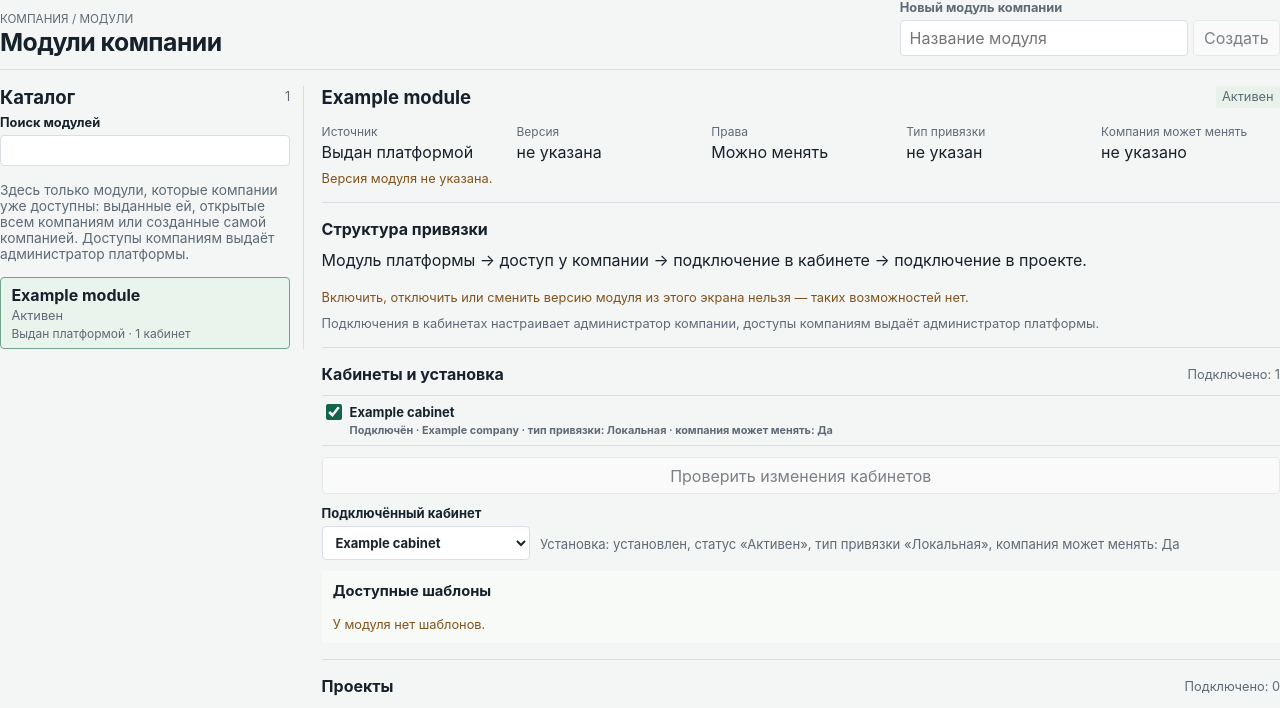
Test: module binding owner workflow › confirms a company cabinet removal and checks the unbound API readback
Click the checkbox: (334, 412) x1=326 y1=404 x2=342 y2=420
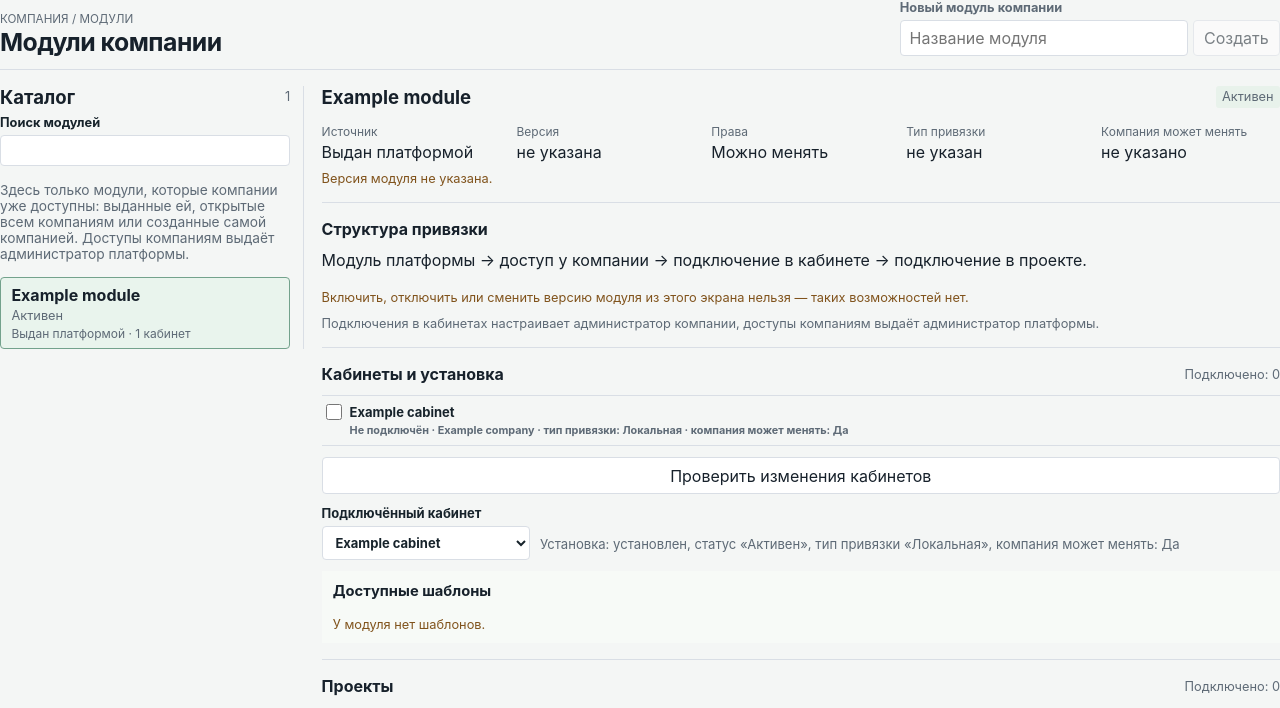
Click the button "Проверить изменения кабинетов": (801, 476) x1=322 y1=457 x2=1279 y2=494
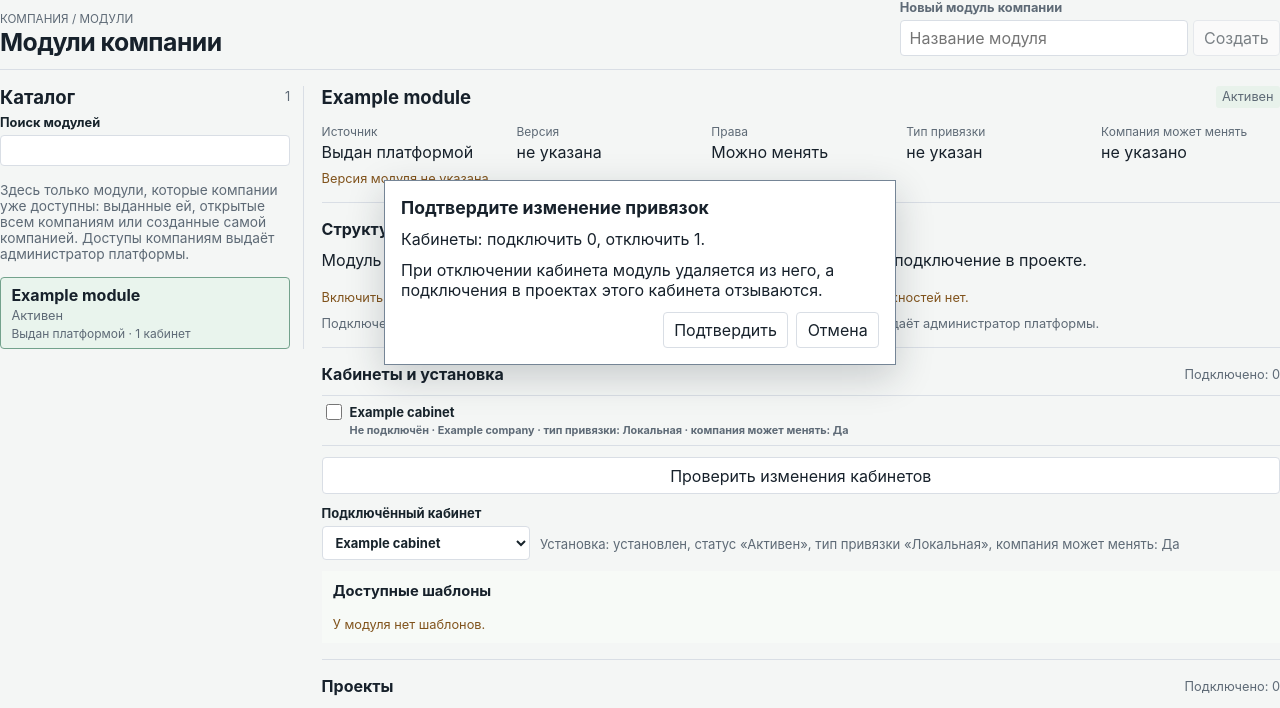
Now the dialog shows "отключить 1", box x1=401 y1=229 x2=705 y2=249
Now the dialog shows "модуль удаляется из него", box x1=401 y1=260 x2=834 y2=300
Click the button "Подтвердить": (726, 330) x1=663 y1=312 x2=788 y2=348
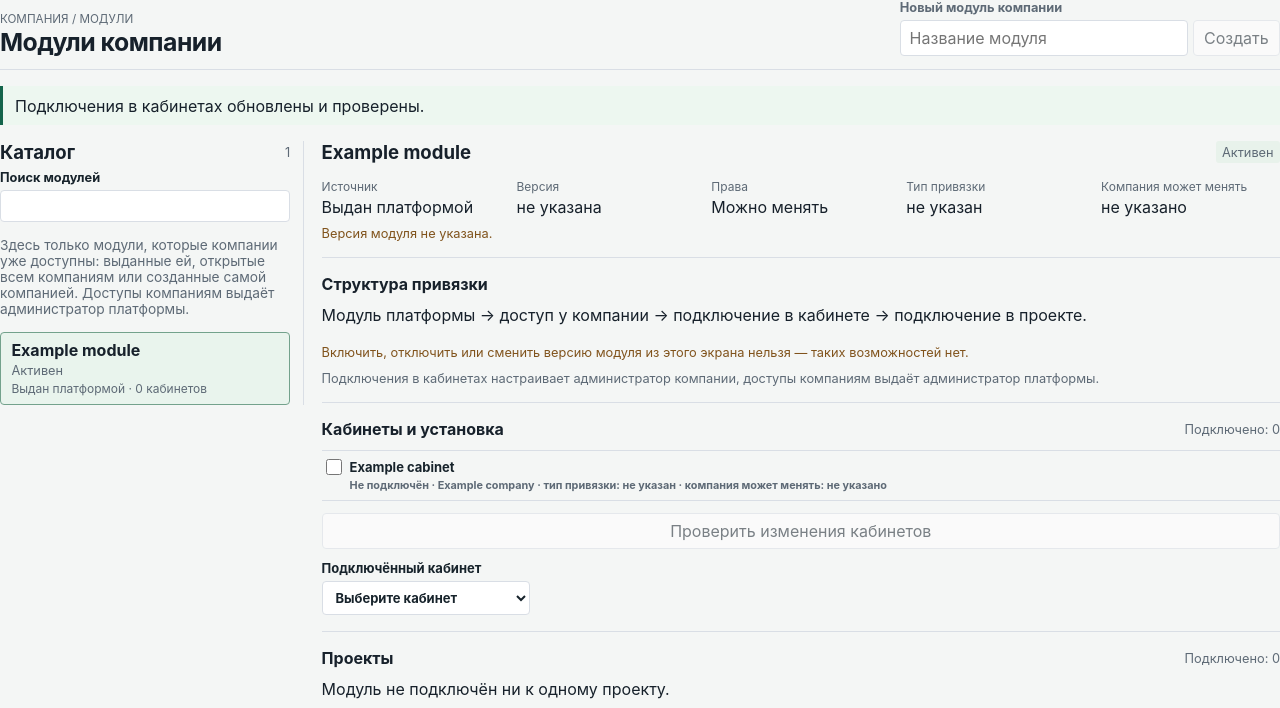
Now the checkbox is not checked, box x1=326 y1=459 x2=342 y2=475
